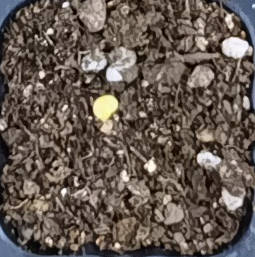pepper seed: (32, 33, 152, 155)
